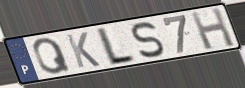7: (161, 13, 189, 55)
H: (188, 6, 238, 52)
K: (64, 31, 103, 70)
L: (96, 25, 138, 68)
Q: (31, 36, 73, 76)
S: (131, 20, 167, 59)
